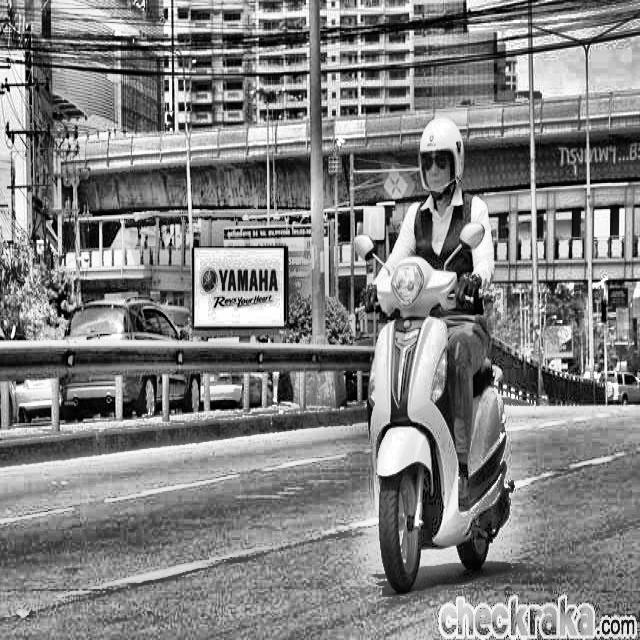Helmet: (410, 108, 474, 211)
